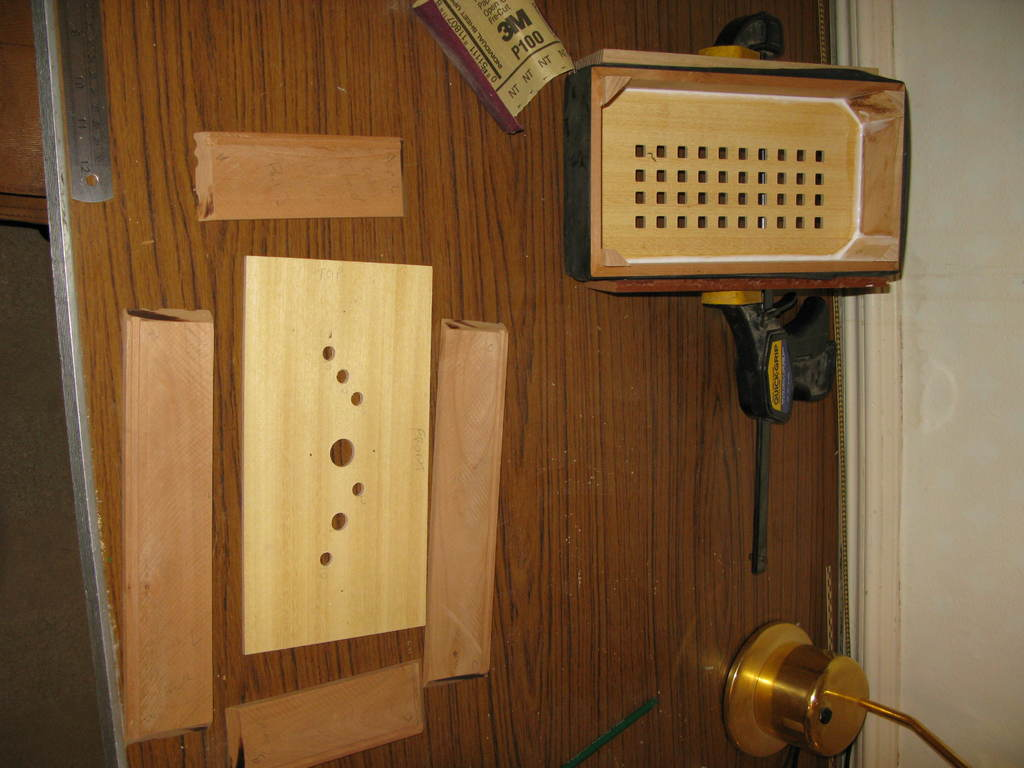door: (107, 48, 839, 768)
handle: (751, 637, 879, 768)
